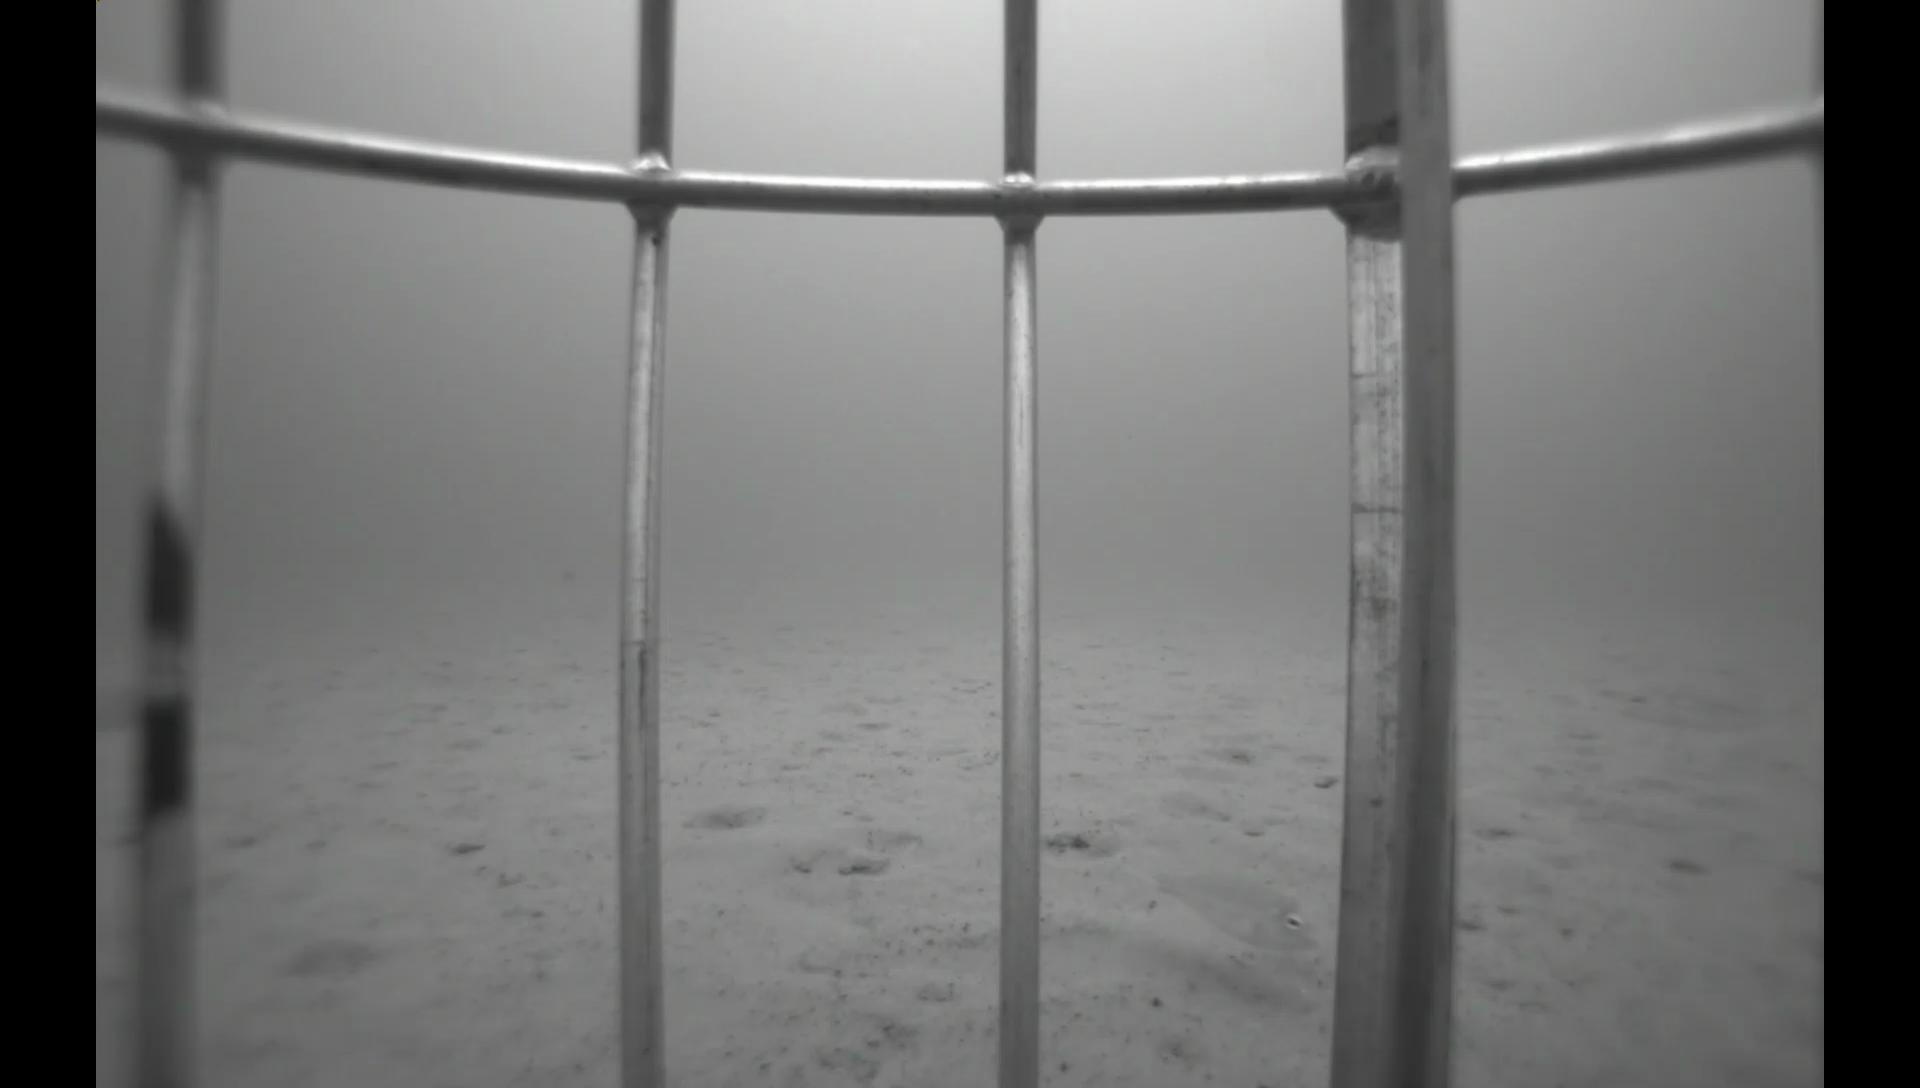CAULOLATILUSCYANOPS-170070101: (1604, 669, 1822, 750)
PRISTIPOMOIDES-170151800: (1120, 837, 1331, 964)
